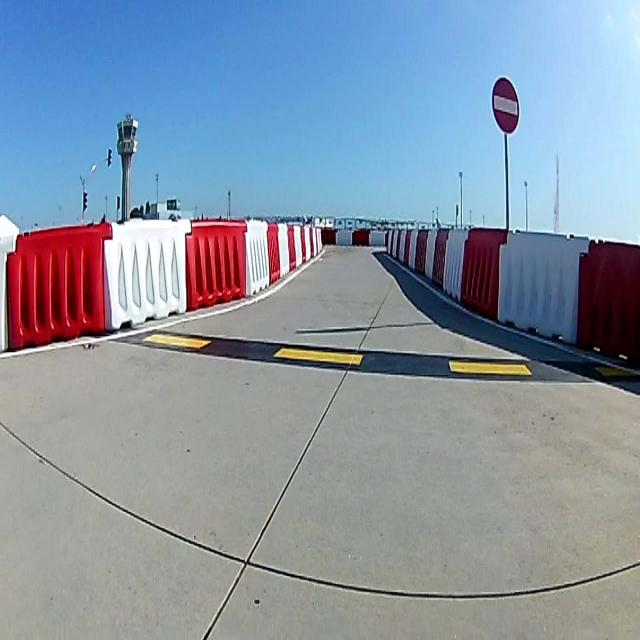girisyok: (490, 74, 520, 135)
